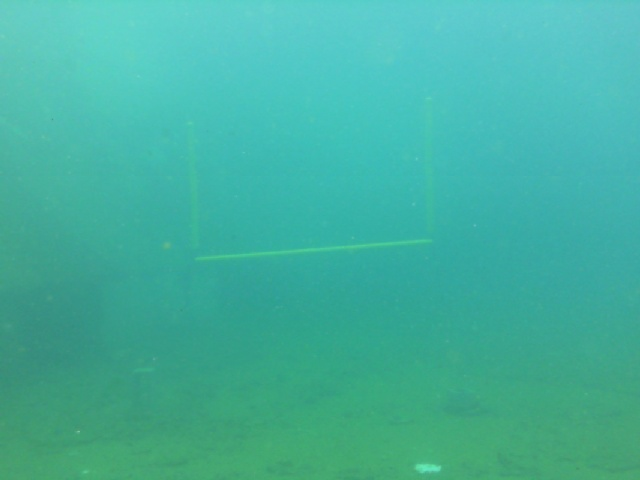channel: (185, 95, 437, 266)
